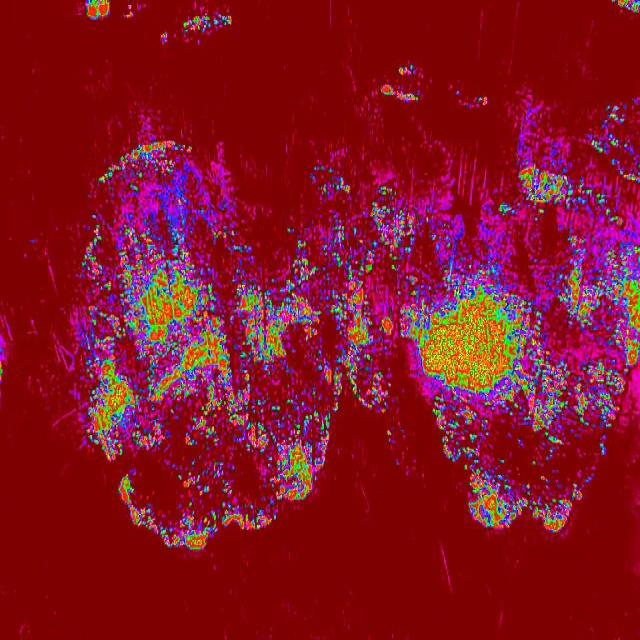fire: (325, 154, 640, 404), (67, 129, 241, 556), (242, 211, 325, 533), (428, 404, 612, 467), (464, 465, 584, 536), (509, 98, 640, 154), (160, 4, 234, 42), (374, 64, 429, 108), (0, 318, 14, 382), (84, 0, 110, 21)
